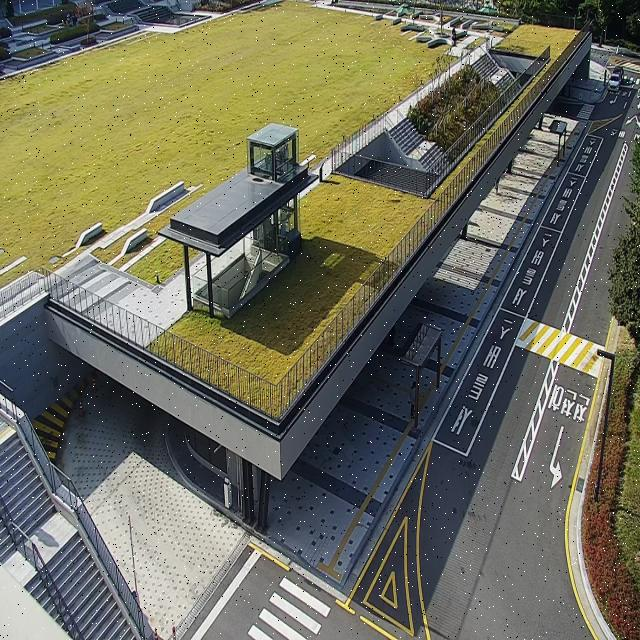queue: (414, 328, 441, 432)
